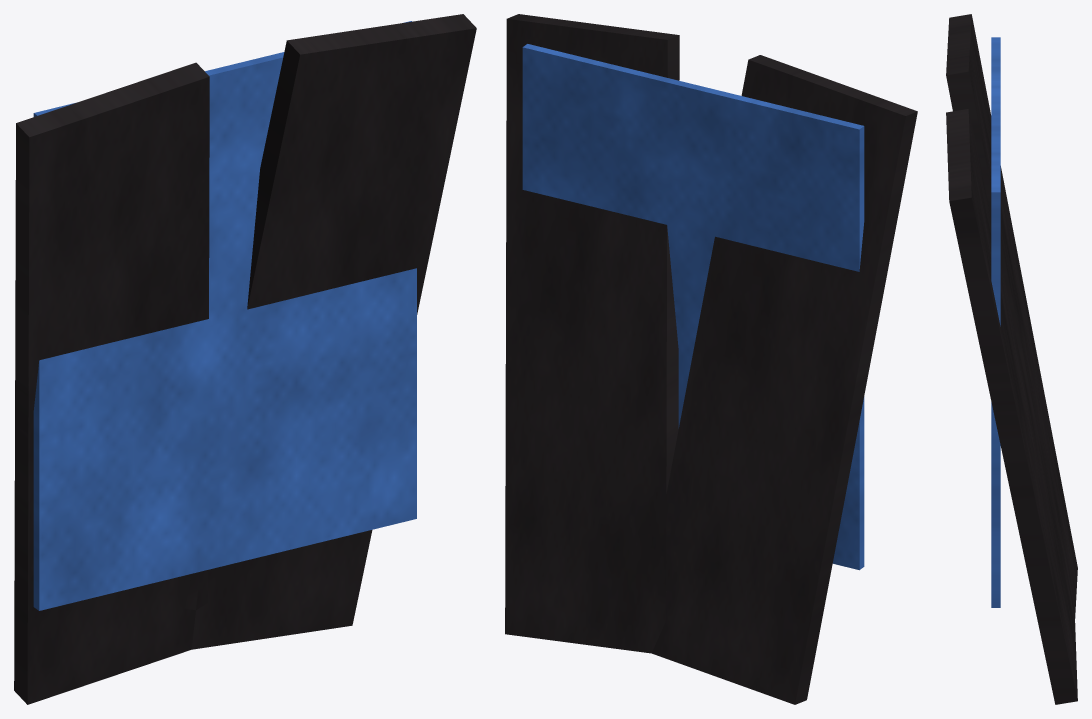
The model's file is rival_coat_tails.obj.
3 views of the same model, side by side, from view 1: azimuth 30°, elevation 25°; view 2: azimuth 150°, elevation 25°; view 3: azimuth 270°, elevation 25° (orthographic). The views are drawn at different scales.
Visible parts, largest first — view 1: rival_coat_tails; view 2: rival_coat_tails; view 3: rival_coat_tails.
Part boxes in pixels (left/top/right/bottom): rival_coat_tails: left=14, top=14, right=476, bottom=704; rival_coat_tails: left=505, top=14, right=917, bottom=704; rival_coat_tails: left=946, top=14, right=1077, bottom=704.
Size of the model in its own units: 0.5924 by 0.8244 by 0.1798.
